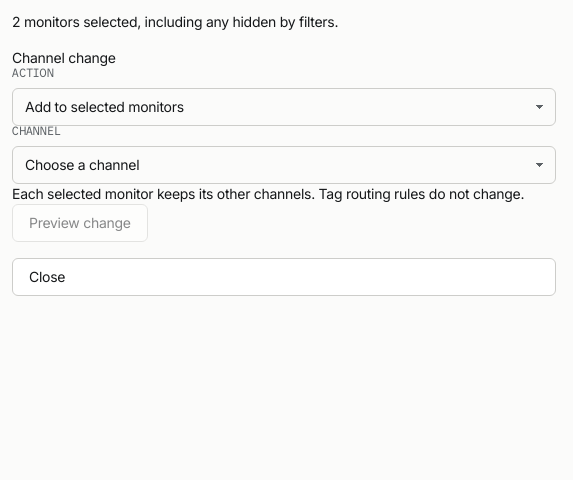
says an add ends the default for monitors on it, and that a disabled channel sends nothing
Select "Old hook · Webhook · disabled" in the dropdown labelled "Channel" at (284, 165), box left=12, top=146, right=556, bottom=184
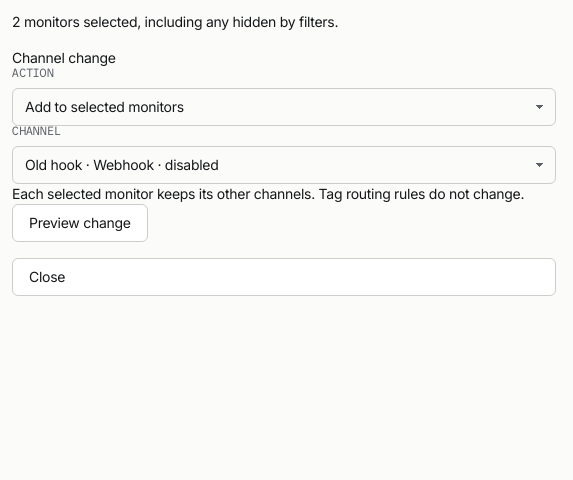
Click the button "Preview change" at (80, 223), box left=12, top=204, right=148, bottom=242
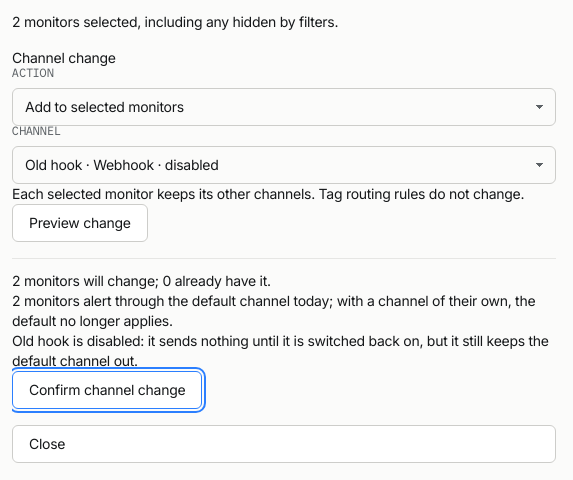
Expected: the button "Confirm channel change" is shown, left=12, top=371, right=202, bottom=409
Expected: the text "2 monitors alert through the default channel today; with a channel of their own, the default no longer applies." is shown, left=12, top=292, right=535, bottom=329
Expected: the text "Old hook is disabled: it sends nothing until it is switched back on, but it still keeps the default channel out." is shown, left=12, top=332, right=549, bottom=369
